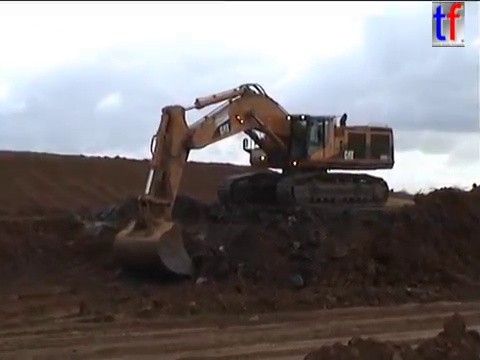excavator: (111, 80, 398, 281)
